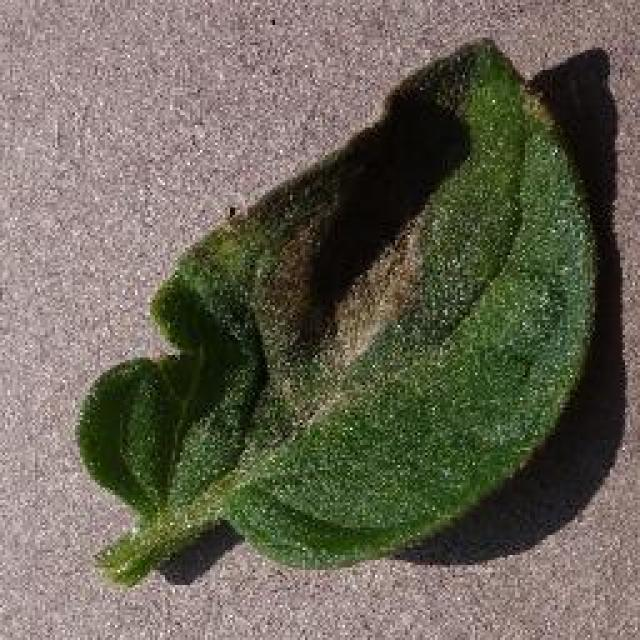Tomato late blight leaf: (75, 36, 603, 596)
